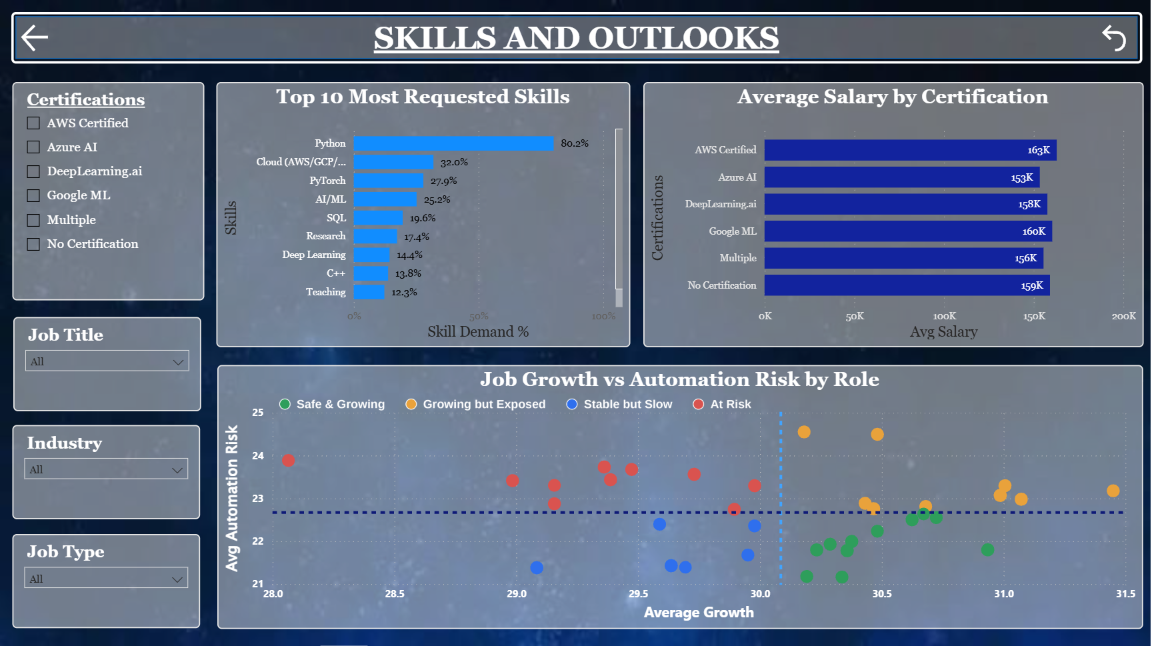

This screenshot's page, from the dashboard's own definition file:
{"tool":"powerbi","page":{"name":"SKILLS AND OUTLOOKS","canvas":[1280,720],"ordinal":2},"visuals":[{"type":"shape","box":[13.6,13.6,1256.8,57.5],"z":0},{"type":"scatterChart","title":"Job Growth vs Automation Risk by Role","fields":{"Category":["Jobs.Job Title"],"Size":["Jobs.Total Opening"],"X":["Jobs.Avg Growth"],"Y":["Jobs.Avg Automation Risk"]},"box":[241.7,405,1028.3,293.3],"z":1000},{"type":"clusteredBarChart","title":"Average Salary by Certification","fields":{"Category":["Jobs.Certifications"],"Y":["Jobs.Avg Salary"]},"box":[715,91.6,555.7,294.8],"z":2000},{"type":"clusteredBarChart","title":"Top 10 Most Requested Skills","fields":{"Category":["Skills.Skills"],"Y":["Skills.Skill Demand %"]},"box":[241,91.6,460.1,294.8],"z":3000},{"type":"slicer","fields":{"Values":["Jobs.Certifications"]},"box":[13.9,91.6,213.1,243],"z":4000},{"type":"slicer","fields":{"Values":["Jobs.Job Title"]},"box":[15.9,352.5,208.4,105],"z":5000},{"type":"slicer","fields":{"Values":["Jobs.Industry"]},"box":[13.9,472,208.4,105],"z":6000},{"type":"slicer","fields":{"Values":["Jobs.Job Type"]},"box":[13.9,593.5,208.4,105],"z":7000},{"type":"actionButton","box":[1218.3,21.7,50.9,39.8],"z":8000},{"type":"image","box":[301.7,425,541.7,46.7],"z":9000},{"type":"actionButton","box":[20,21.7,100,40],"z":10000}]}

Visuals, with their boxes in screenshot pixels (x1, y1, x2, y2), scaled from the page's 1280x720 canvas onto the 1151x646 screenshot:
shape: bbox=(12, 12, 1142, 64)
"Job Growth vs Automation Risk by Role" scatterChart: bbox=(217, 363, 1142, 627)
"Average Salary by Certification" clusteredBarChart: bbox=(643, 82, 1143, 347)
"Top 10 Most Requested Skills" clusteredBarChart: bbox=(217, 82, 630, 347)
slicer - Jobs.Certifications: bbox=(12, 82, 204, 300)
slicer - Jobs.Job Title: bbox=(14, 316, 202, 410)
slicer - Jobs.Industry: bbox=(12, 423, 200, 518)
slicer - Jobs.Job Type: bbox=(12, 533, 200, 627)
actionButton: bbox=(1096, 19, 1141, 55)
image: bbox=(271, 381, 758, 423)
actionButton: bbox=(18, 19, 108, 55)
